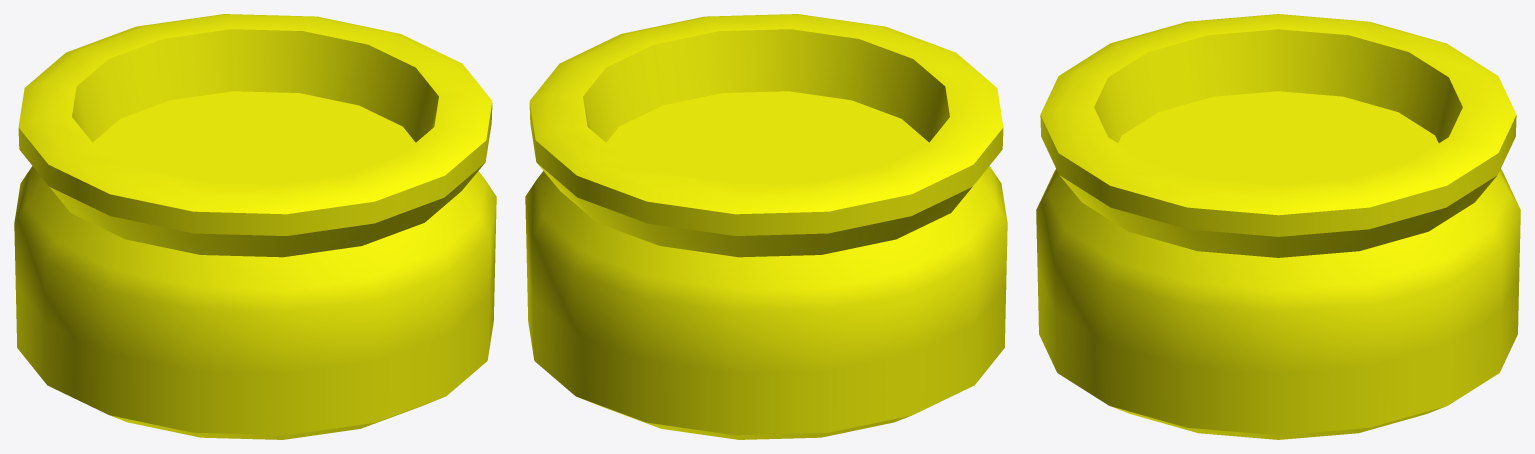
The model's file is kaykit-christmas-tree-base.glb.
The picture shows the model from 3 angles, left to right: view 1: azimuth 30°, elevation 25°; view 2: azimuth 150°, elevation 25°; view 3: azimuth 270°, elevation 25°; orthographic projection.
Visible parts, largest first — view 1: christmas_tree_base; view 2: christmas_tree_base; view 3: christmas_tree_base.
Part boxes in pixels (x1,y1,x2,y2): christmas_tree_base: [14, 14, 496, 439]; christmas_tree_base: [525, 14, 1007, 439]; christmas_tree_base: [1036, 14, 1520, 439].
Size of the model in its own units: 0.8993 by 0.4998 by 0.8993.
